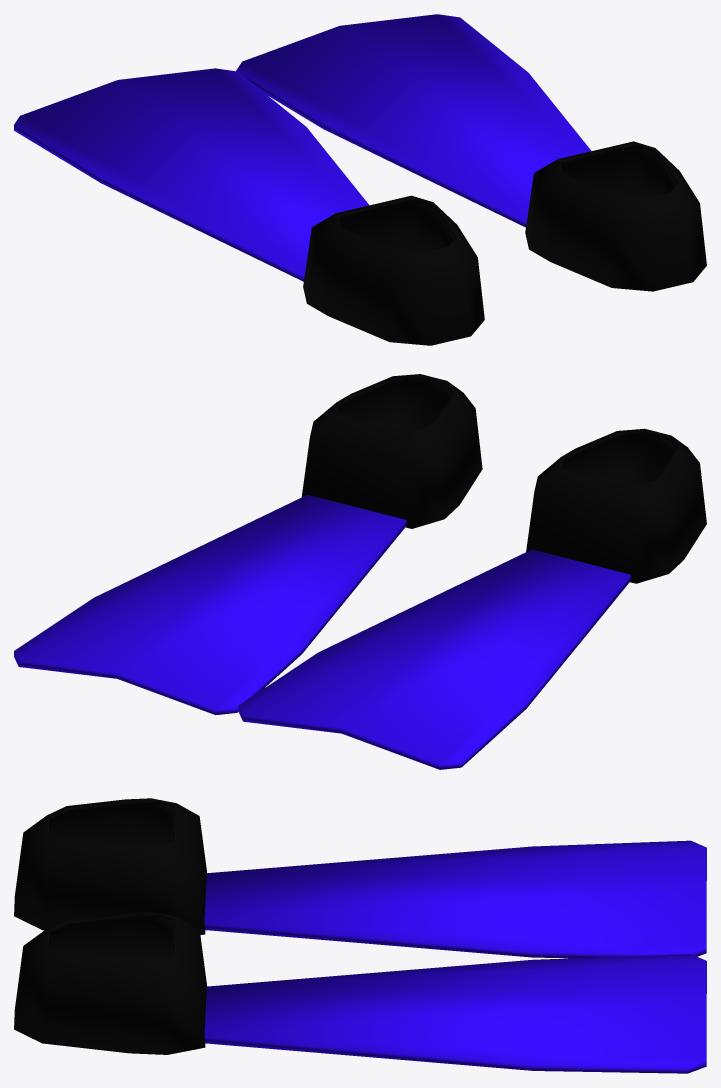
The model's file is item-fins-basic.glb.
3 renders of one model, top to bottom at view 1: azimuth 30°, elevation 25°; view 2: azimuth 150°, elevation 25°; view 3: azimuth 270°, elevation 25°, orthographic. The views are drawn at different scales.
Bounding box in the file's own units: 4.3 × 0.7414 × 5.56.
